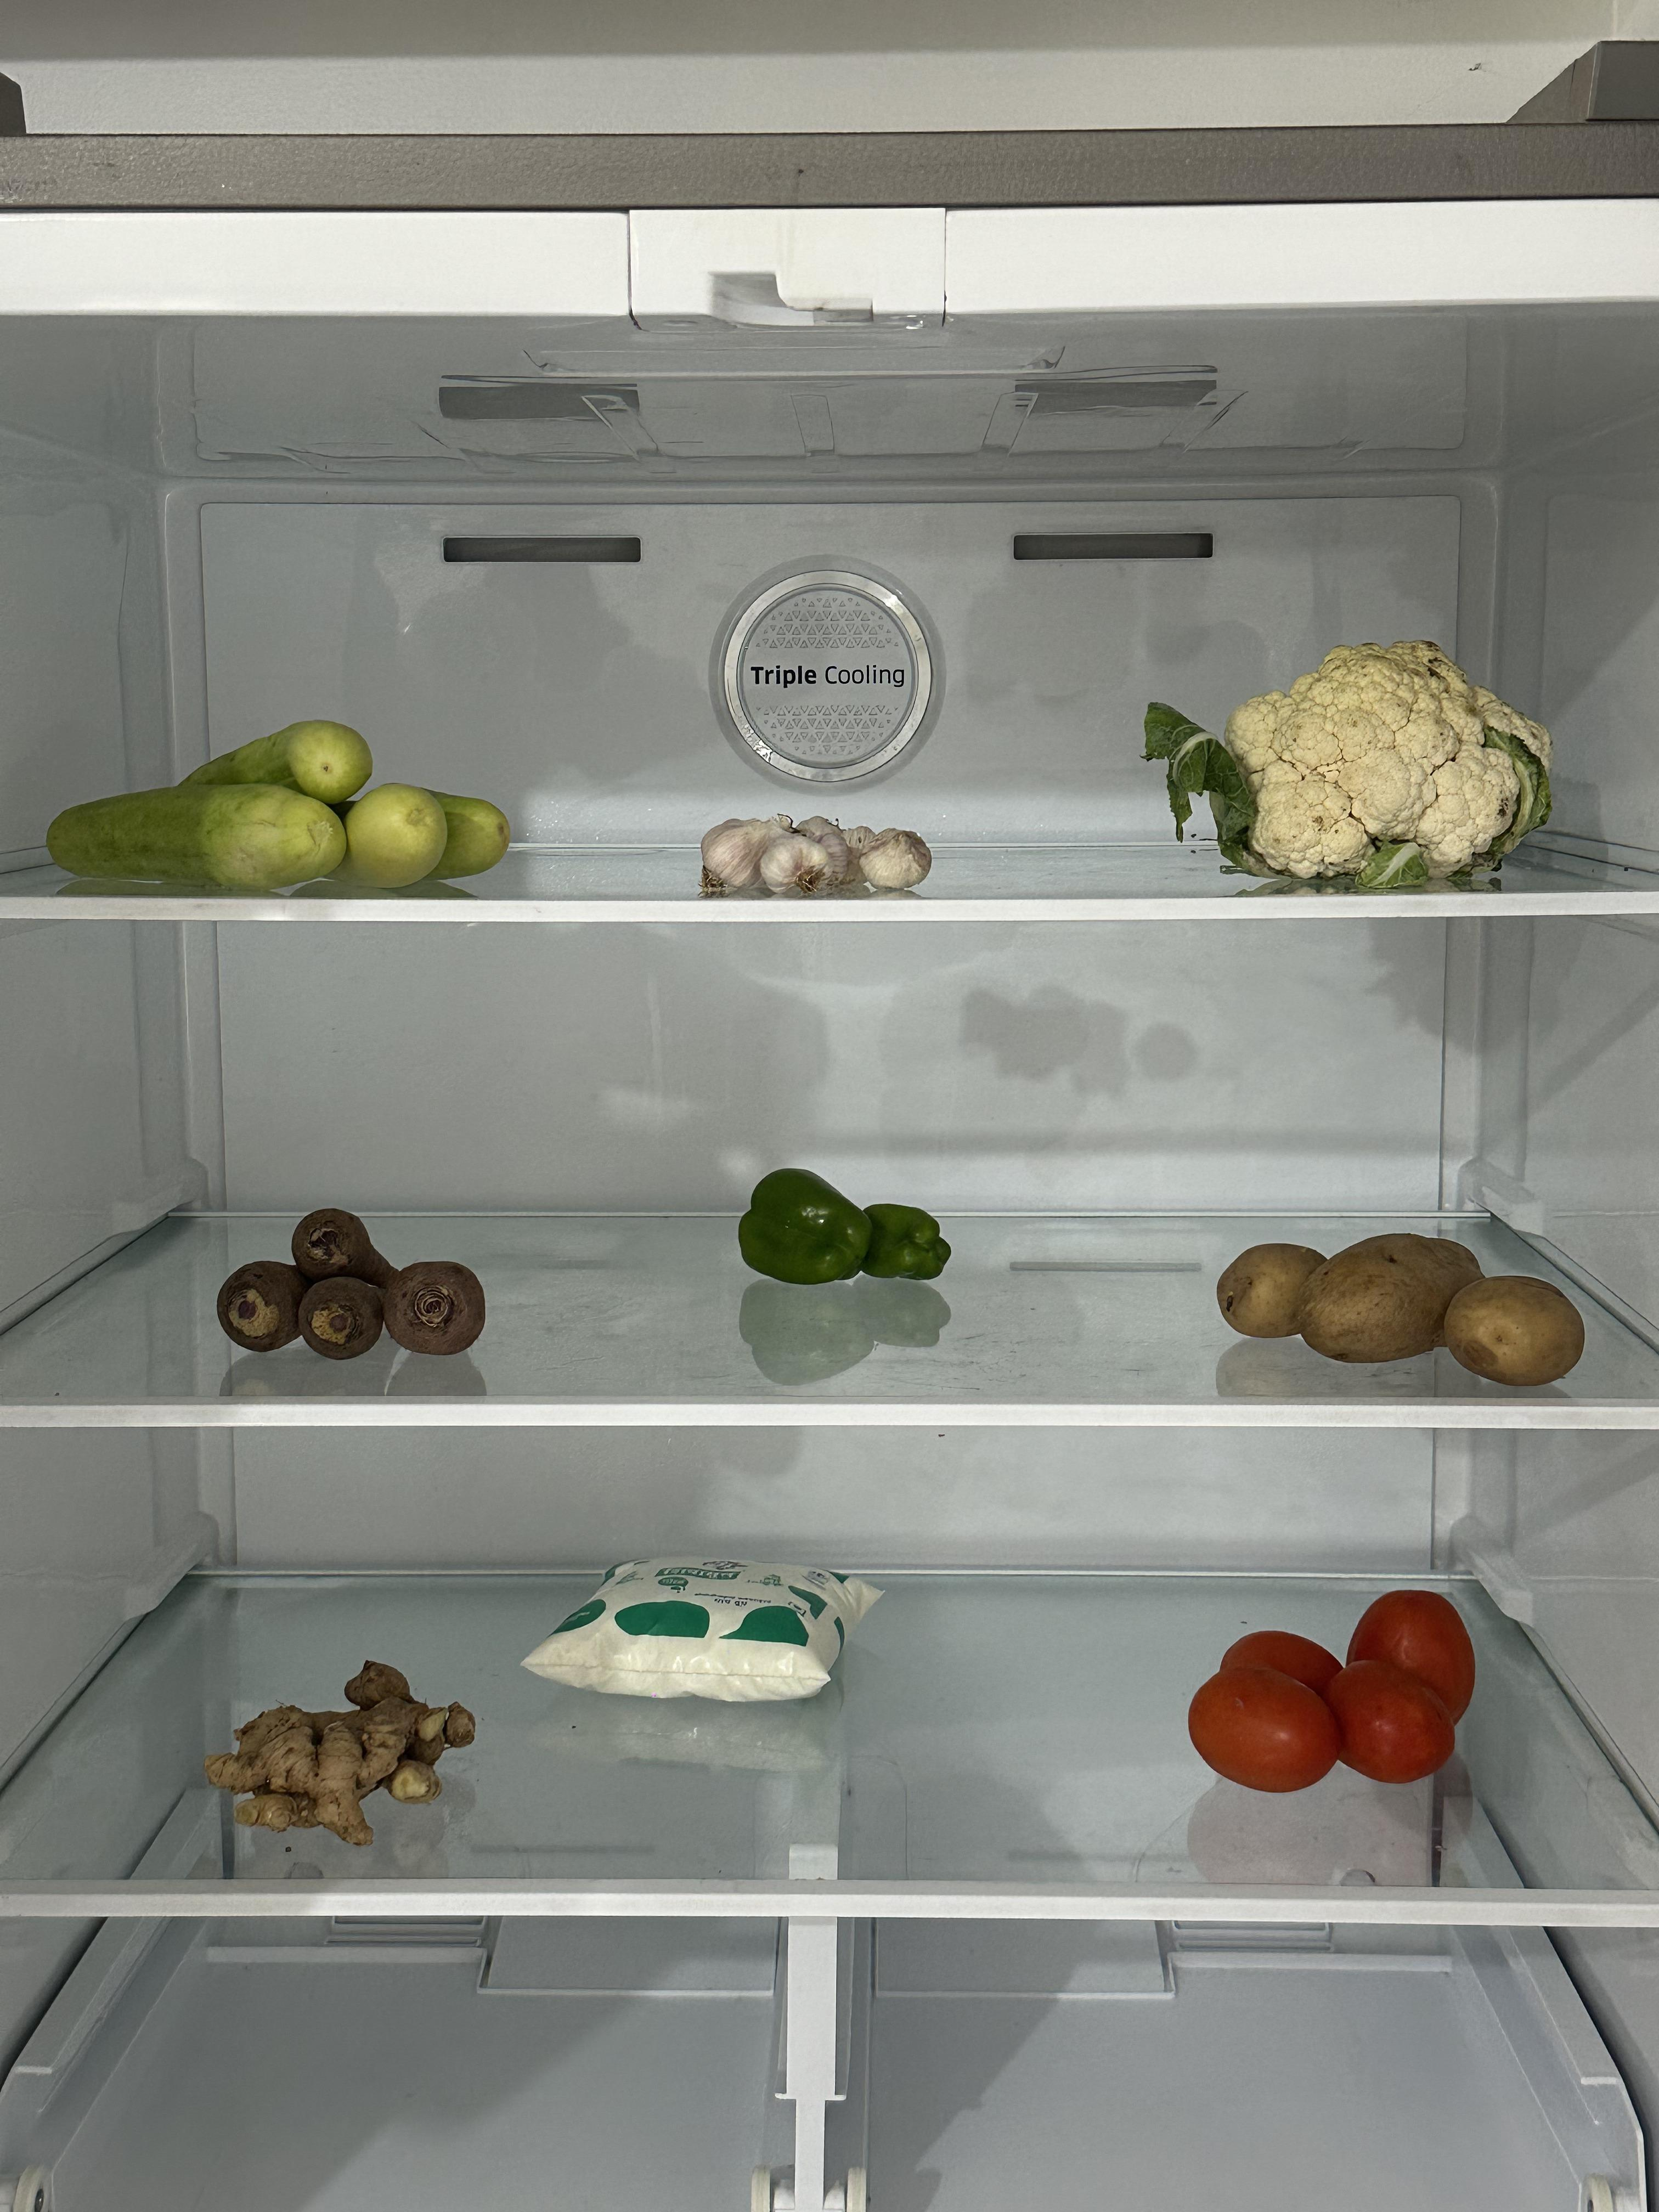capsicum: (735, 1160, 953, 1291)
carrots: (218, 1198, 488, 1369)
cauliflower: (1206, 627, 1556, 878)
cucumber: (38, 712, 509, 894)
garlic: (685, 798, 941, 895)
ginger: (204, 1656, 477, 1839)
milk: (523, 1552, 890, 1705)
potato: (1215, 1224, 1582, 1388)
tomato: (1192, 1576, 1473, 1796)
